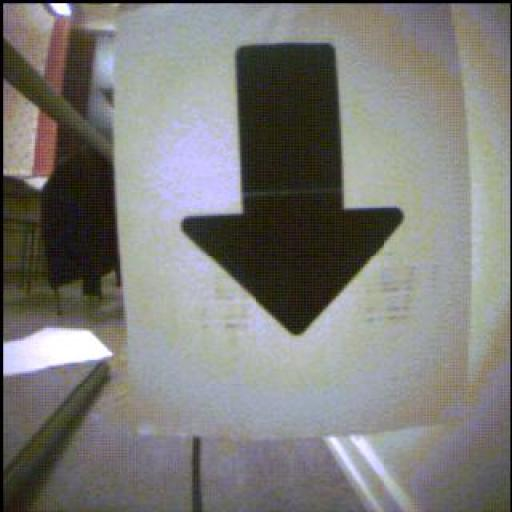Arrow: (184, 45, 405, 336)
